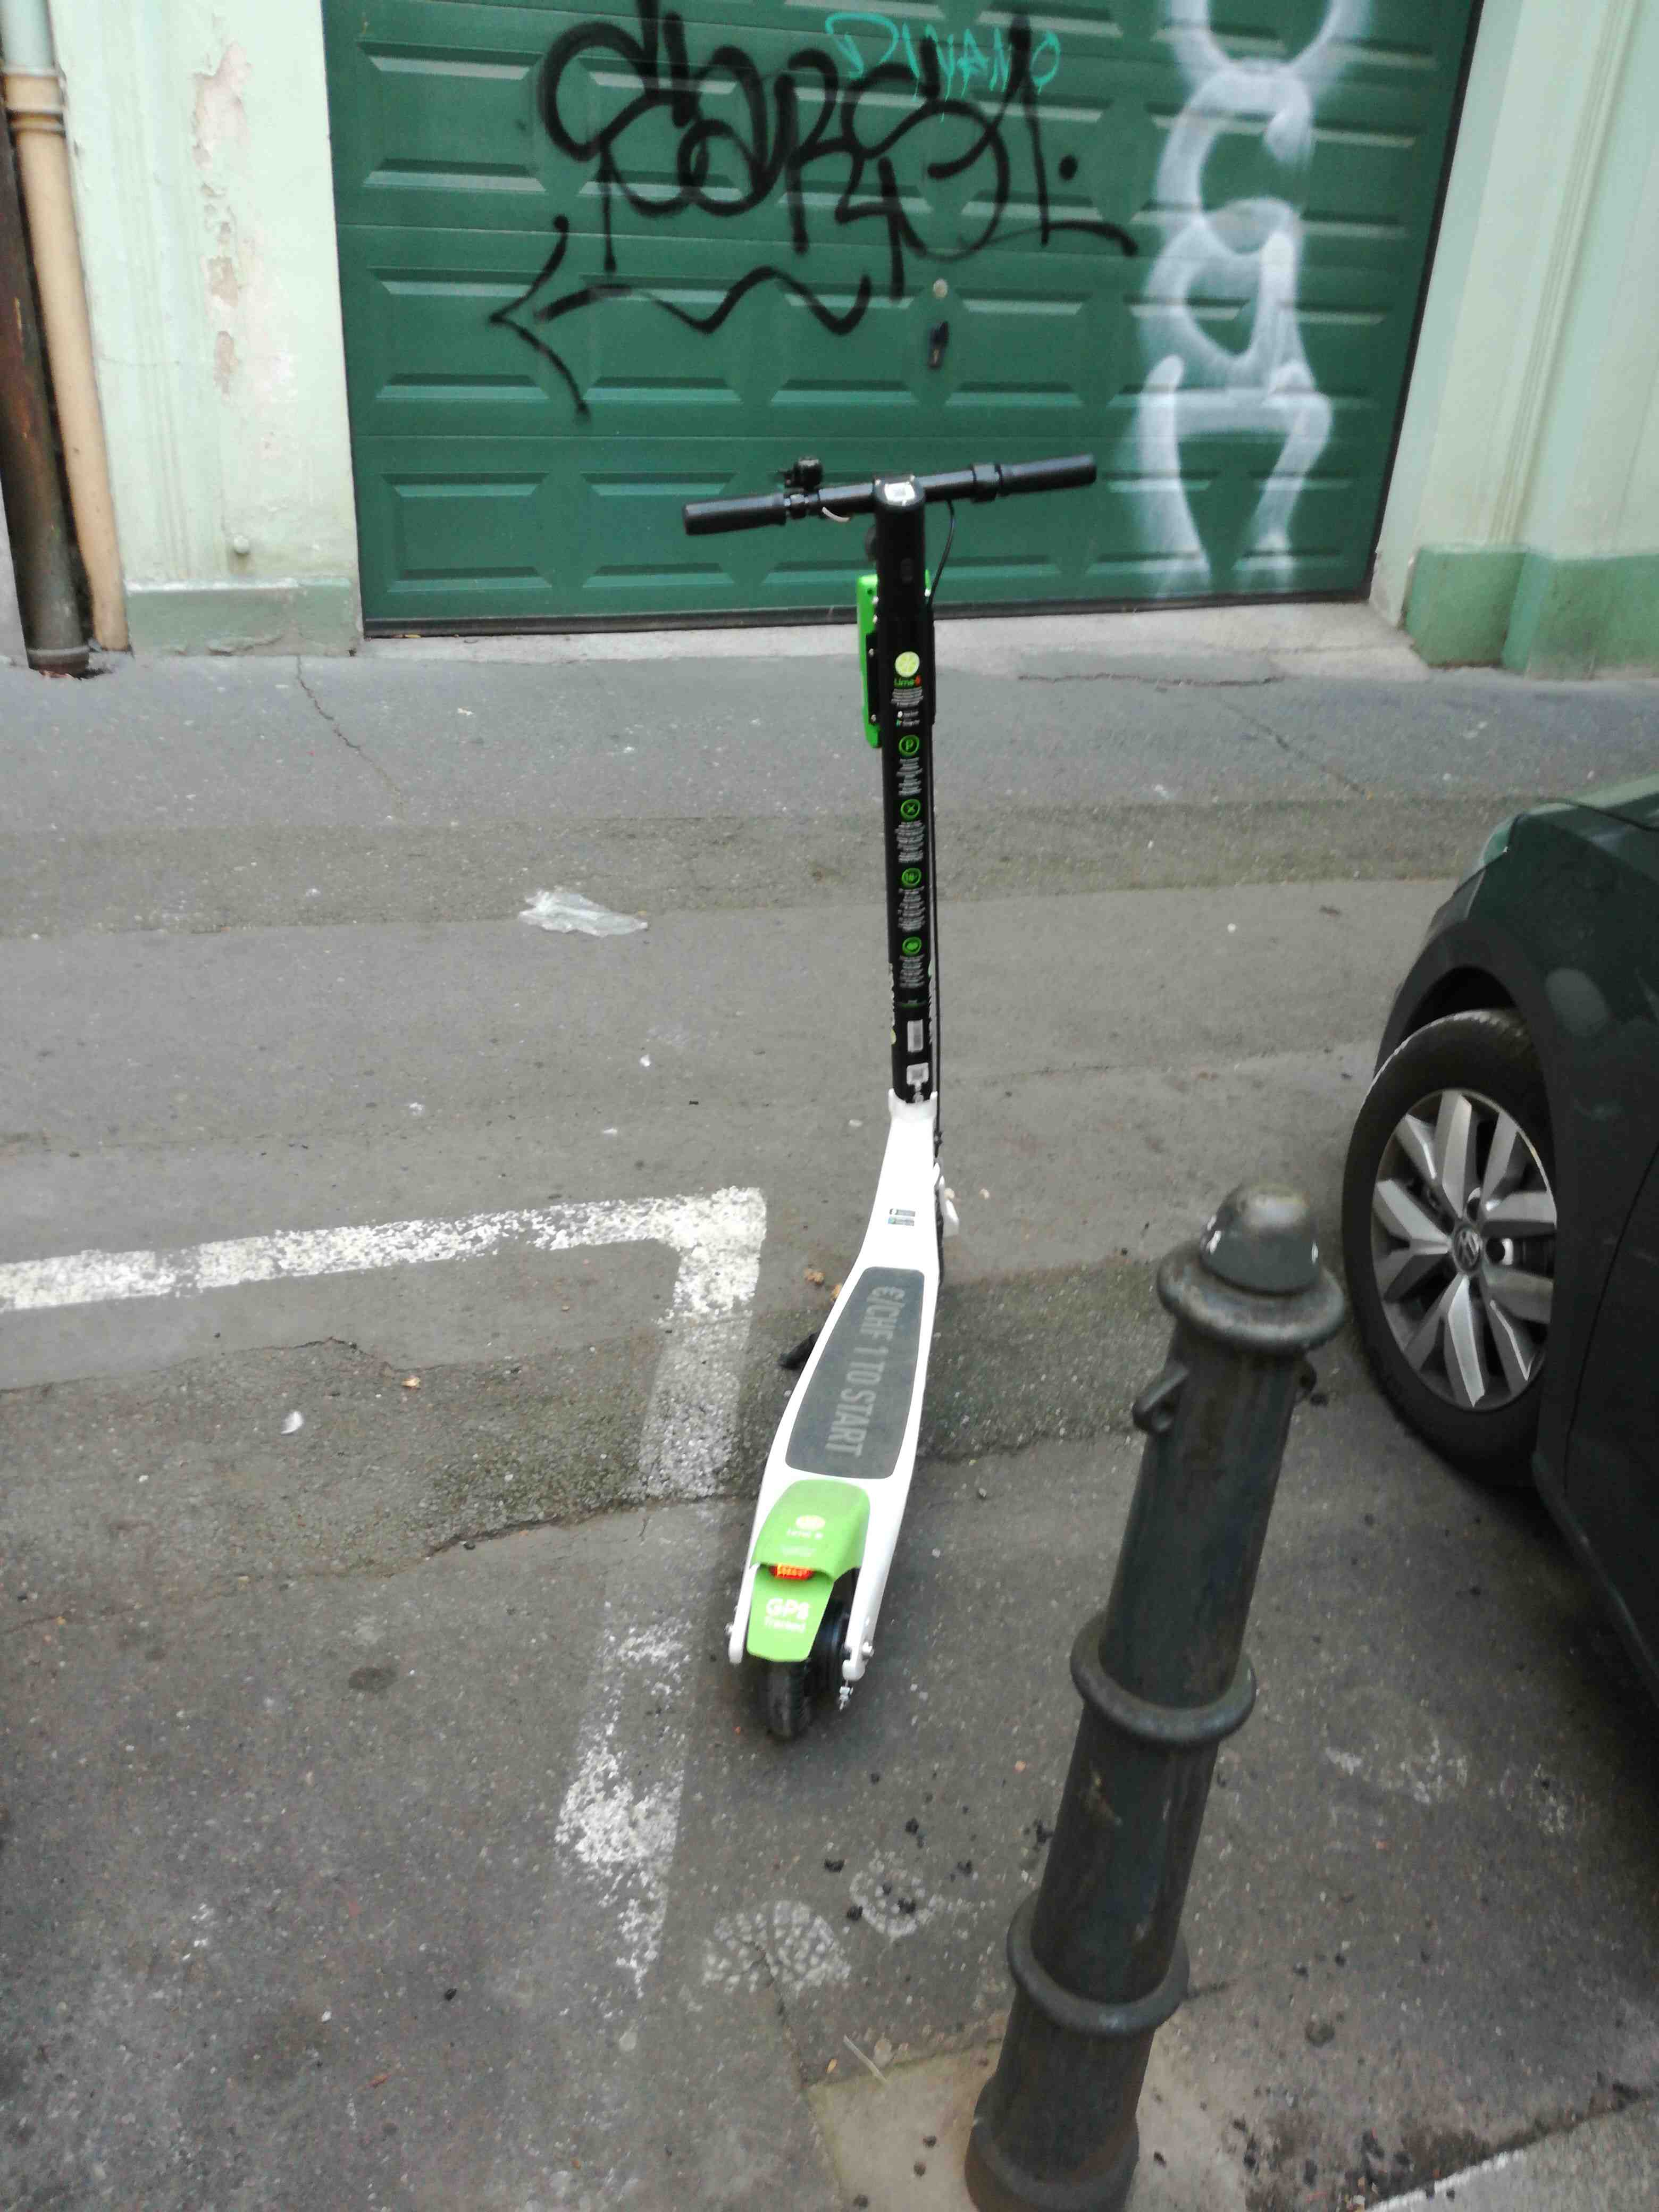scooter: (650, 449, 1108, 1759)
